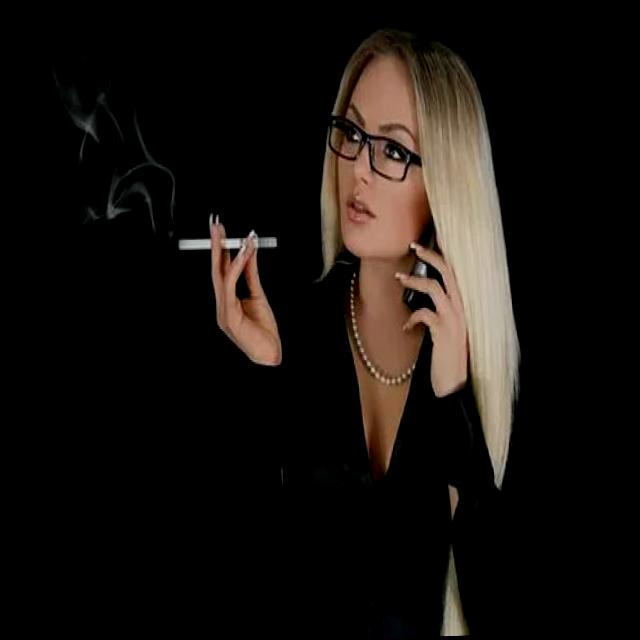cigarette: (175, 228, 278, 255)
